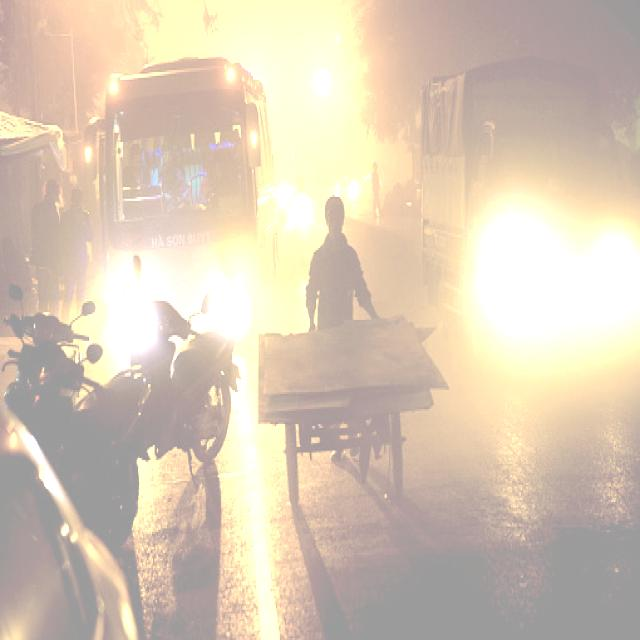Motorbike: (8, 300, 150, 640), (121, 253, 242, 473)
